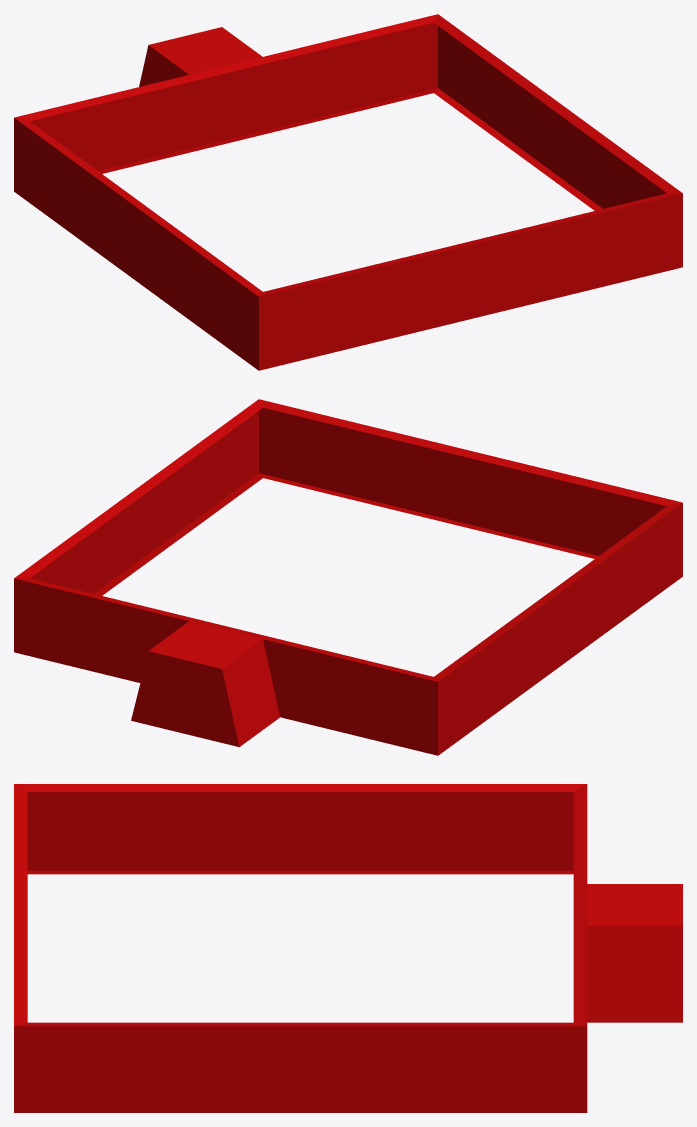
Rendered from Bandana.fbx.
The picture shows the model from 3 angles, top to bottom: view 1: azimuth 30°, elevation 25°; view 2: azimuth 150°, elevation 25°; view 3: azimuth 270°, elevation 25°; orthographic projection. The views are drawn at different scales.
Visible parts, largest first — view 1: Runner.001; view 2: Runner.001; view 3: Runner.001.
Boxes of the visible parts, bbox=[...] form: Runner.001: bbox=[14, 14, 682, 370]; Runner.001: bbox=[14, 399, 682, 755]; Runner.001: bbox=[14, 784, 682, 1112].
Bounding box in the file's own units: 105 × 17.5 × 123.
